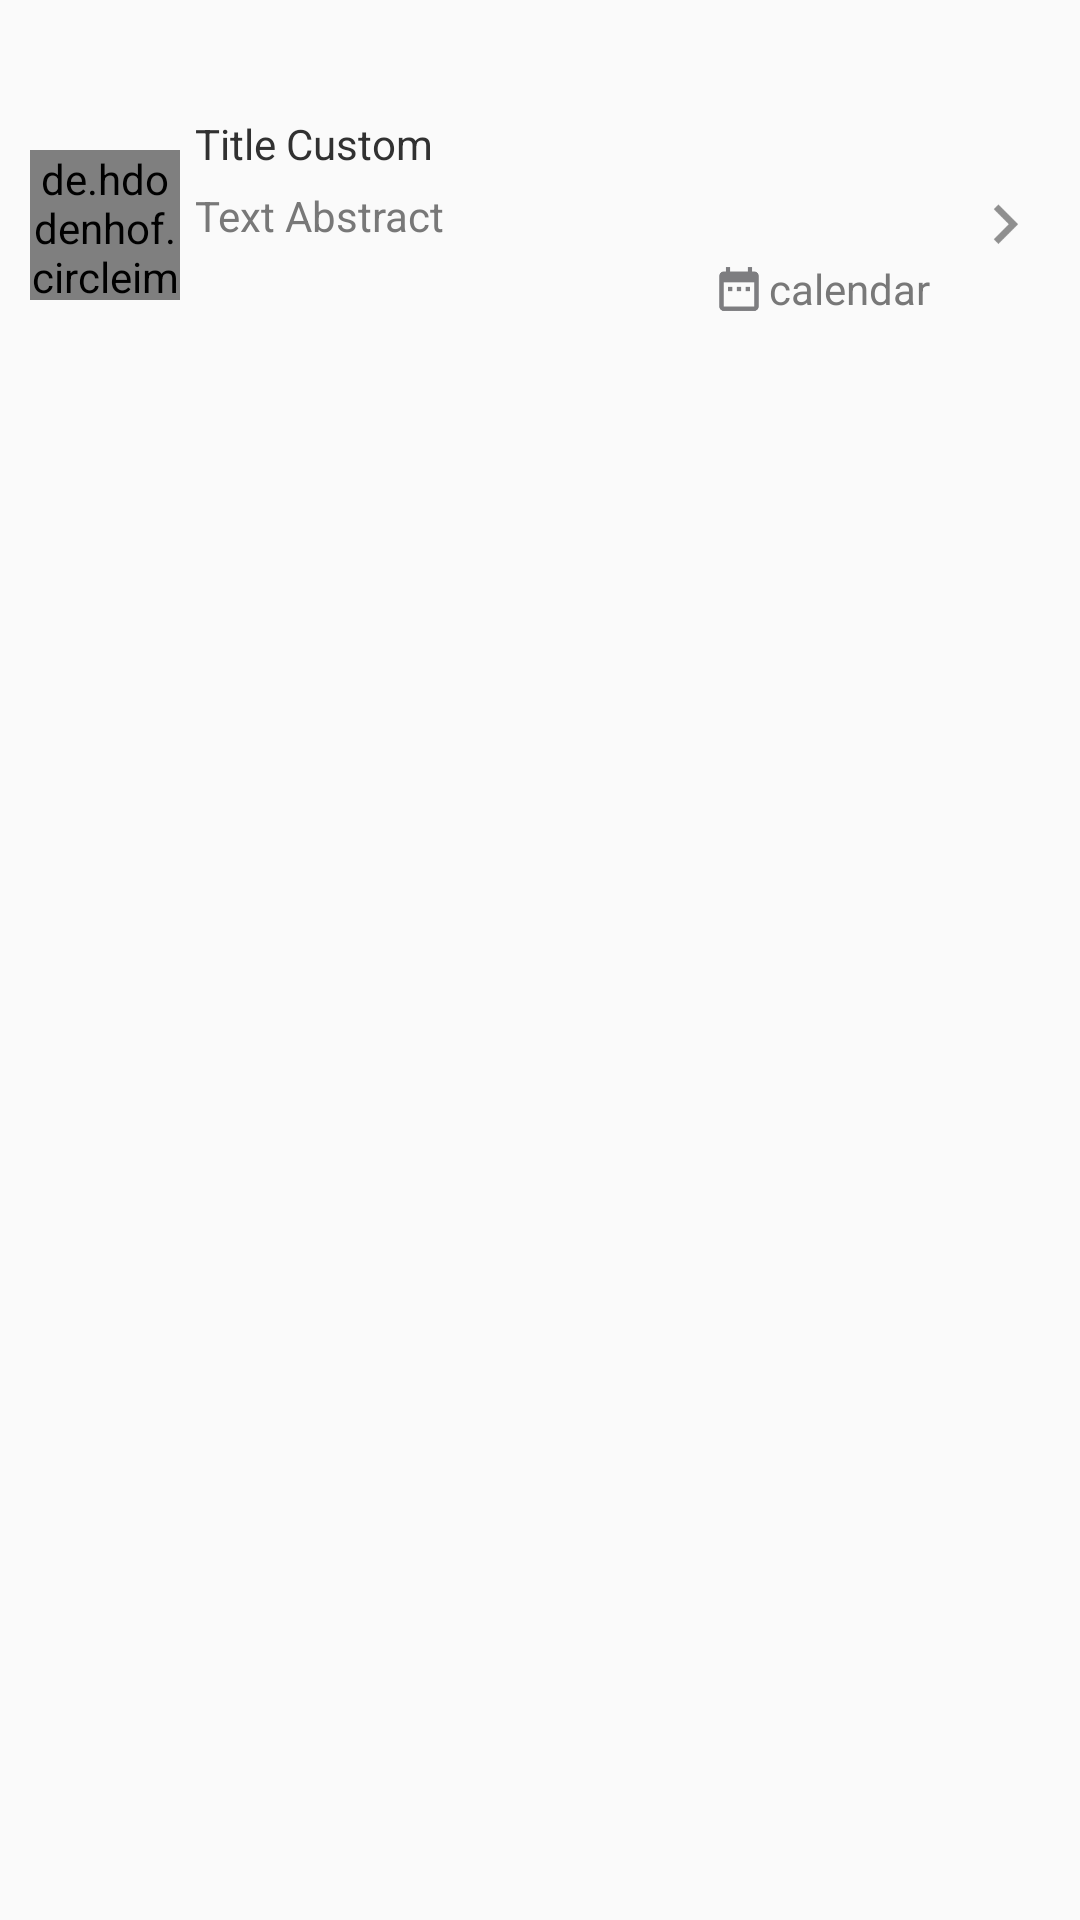

Icon bounding boxes for this 1080 × 1920 phone screenshot, format rect(x1, y1, x2, y2):
arrow right: rect(994, 204, 1018, 244)
